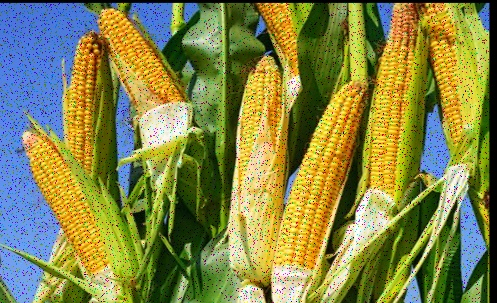corn: (16, 133, 129, 286), (99, 7, 194, 169), (276, 82, 355, 274), (233, 60, 282, 280), (370, 3, 419, 205), (429, 21, 486, 165), (67, 35, 108, 181)
